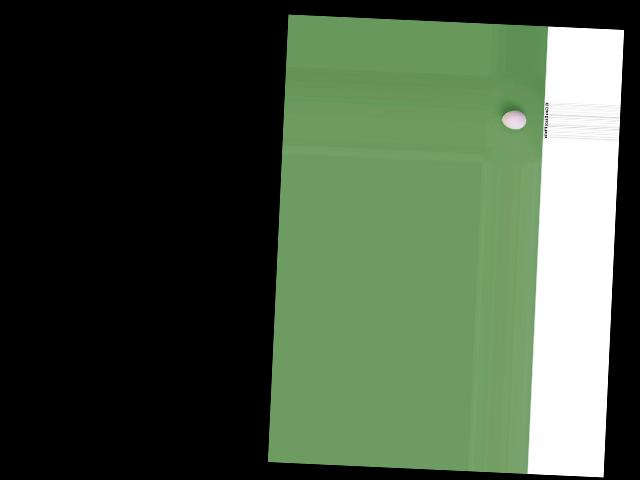egg: (501, 110, 527, 130)
